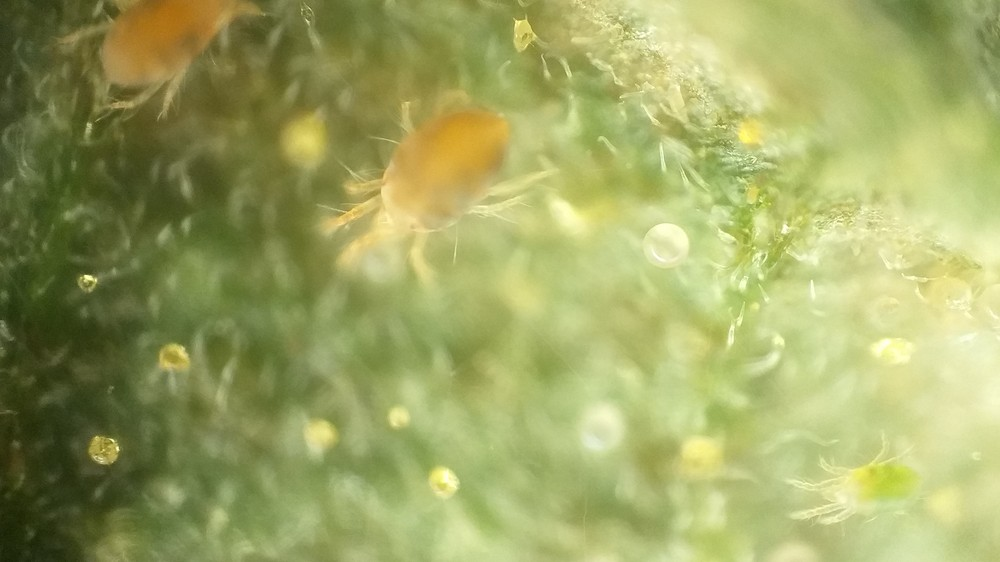Aracnido Rojo: (310, 78, 565, 297), (66, 2, 305, 130)
